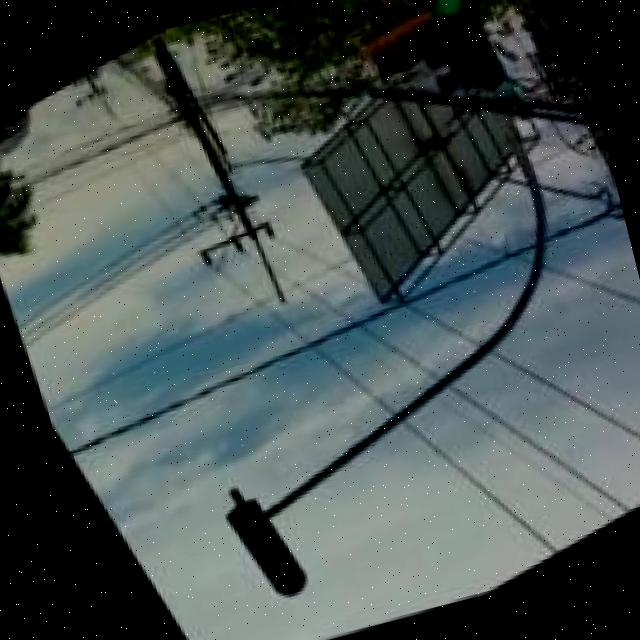green_light: (206, 485, 309, 619), (420, 0, 514, 108)
